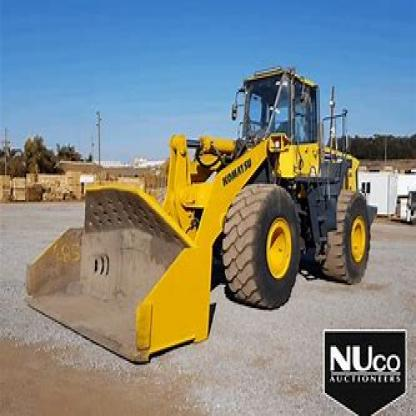bull_dozer/loader/grader: (17, 60, 382, 365)
